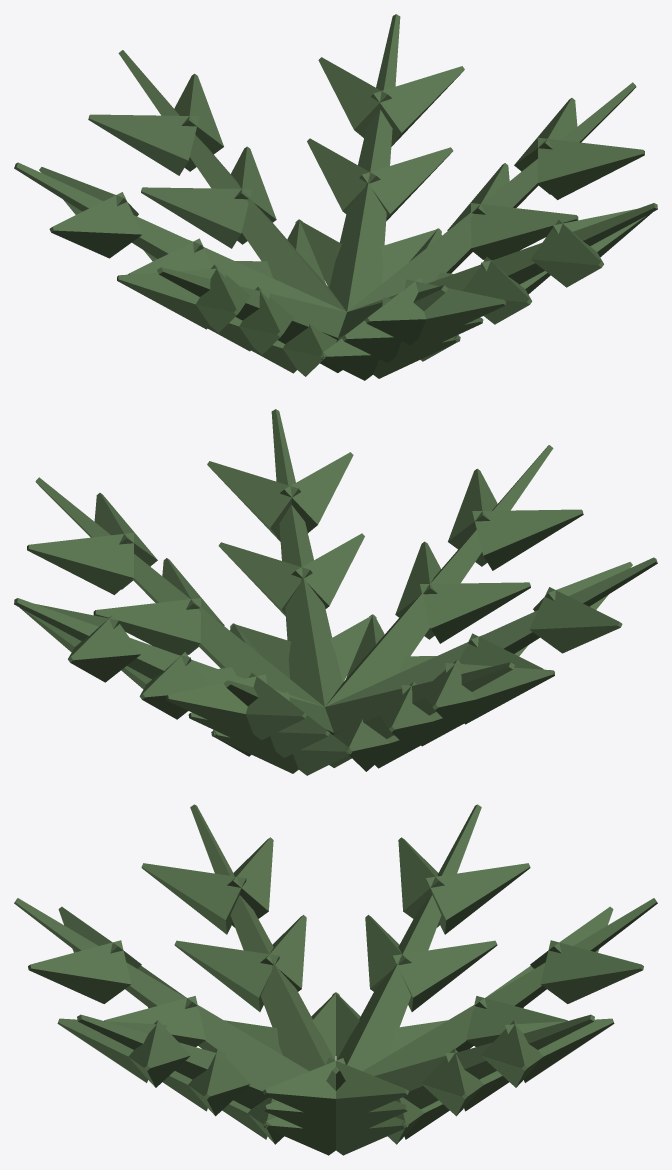
The model's file is fern.glb.
3 views of the same model, one above another, from view 1: azimuth 30°, elevation 25°; view 2: azimuth 150°, elevation 25°; view 3: azimuth 270°, elevation 25° (orthographic).
Parts seen in each view (by area): view 1: fern__body; view 2: fern__body; view 3: fern__body.
Part boxes in pixels (x1,y1,x2,y2): fern__body: (14,14,657,380); fern__body: (14,409,657,775); fern__body: (14,804,657,1155).
Bounding box in the file's own units: 0.8264 × 0.3081 × 0.8436.
